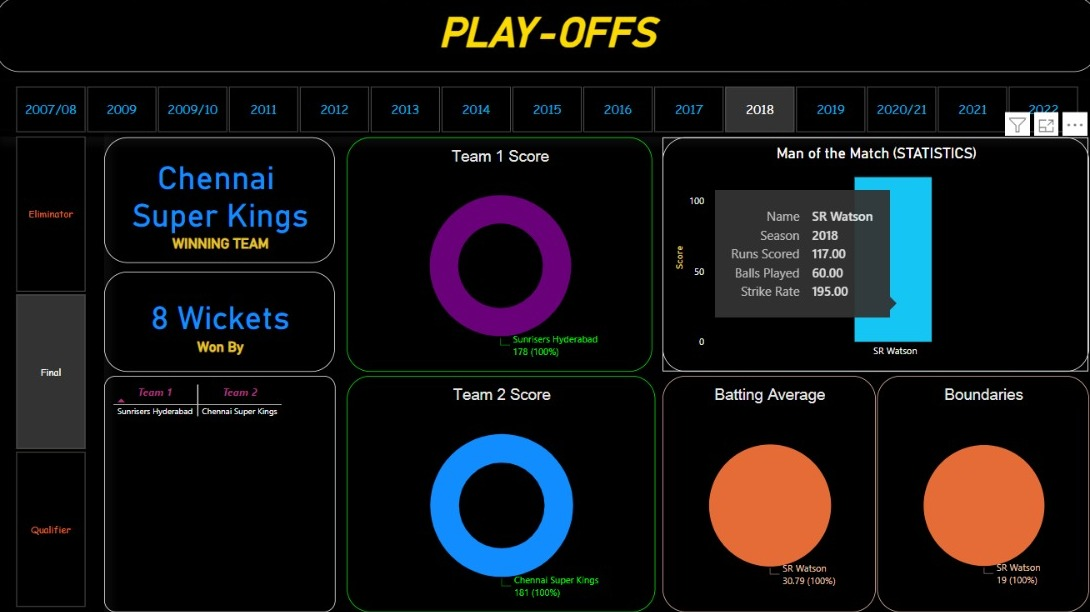

The dashboard page shown, as its layout file describes it:
{"tool":"powerbi","page":{"name":"Play Offs","canvas":[1420,800],"ordinal":4},"visuals":[{"type":"slicer","fields":{"Values":["PLAYOFFS.Season"]},"box":[0,108.5,1416.4,72.4],"z":0},{"type":"textbox","box":[0,0,1416.4,96.5],"z":1000},{"type":"slicer","fields":{"Values":["PLAYOFFS.MatchNumber"]},"box":[0,172.9,139.4,619.1],"z":2000},{"type":"tableEx","title":"QUALIFIED TEAMS","fields":{"Values":["PLAYOFFS.Team1","PLAYOFFS.Team2"]},"box":[139.4,487.8,297.5,304.2],"z":3000},{"type":"card","fields":{"Values":["Min(PLAYOFFS.WinningTeam)"]},"box":[140,181.4,297.1,161.4],"z":4000},{"type":"donutChart","title":"Team 1 Score","fields":{"Category":["PLAYOFFS.Team1"],"Y":["Sum(PLAYOFFS.Team1 Runs)"]},"box":[451.4,181.4,392.9,301.4],"z":5000},{"type":"donutChart","title":"Team 2 Score","fields":{"Category":["PLAYOFFS.Team2"],"Y":["Sum(PLAYOFFS.Team2 Runs)"]},"box":[451.6,487.8,396.6,304.2],"z":6000},{"type":"columnChart","title":"Man of the Match (STATISTICS)","fields":{"Category":["PLAYOFFS.Player_of_Match"],"Y":["Sum(PLAYOFFS.Runs Scored)"],"Series":["PLAYOFFS.Season"]},"box":[857.1,181.4,548.6,301.4],"z":7000},{"type":"card","fields":{"Values":["Min(PLAYOFFS.Won By)"]},"box":[140,354.3,297.1,128.6],"z":8000},{"type":"pieChart","title":"Batting Average","fields":{"Category":["PLAYOFFS.Player_of_Match"],"Y":["Avg(PLAYOFFS.Batting Average)"]},"box":[857.6,487.8,274.7,304.2],"z":9000},{"type":"pieChart","title":"Boundaries","fields":{"Category":["PLAYOFFS.Player_of_Match"],"Y":["Sum(PLAYOFFS.Boundaries)"]},"box":[1133,488,273,304],"z":10000}]}

Visuals, with their boxes in screenshot pixels (x1, y1, x2, y2), scaled from the page's 1420x800 canvas onto the 1090x612 screenshot:
slicer - PLAYOFFS.Season: region(0, 83, 1087, 138)
textbox: region(0, 0, 1087, 74)
slicer - PLAYOFFS.MatchNumber: region(0, 132, 107, 606)
"QUALIFIED TEAMS" tableEx: region(107, 373, 335, 606)
card - Min(PLAYOFFS.WinningTeam): region(107, 139, 336, 262)
"Team 1 Score" donutChart: region(346, 139, 648, 369)
"Team 2 Score" donutChart: region(347, 373, 651, 606)
"Man of the Match (STATISTICS)" columnChart: region(658, 139, 1079, 369)
card - Min(PLAYOFFS.Won By): region(107, 271, 336, 369)
"Batting Average" pieChart: region(658, 373, 869, 606)
"Boundaries" pieChart: region(870, 373, 1079, 606)
